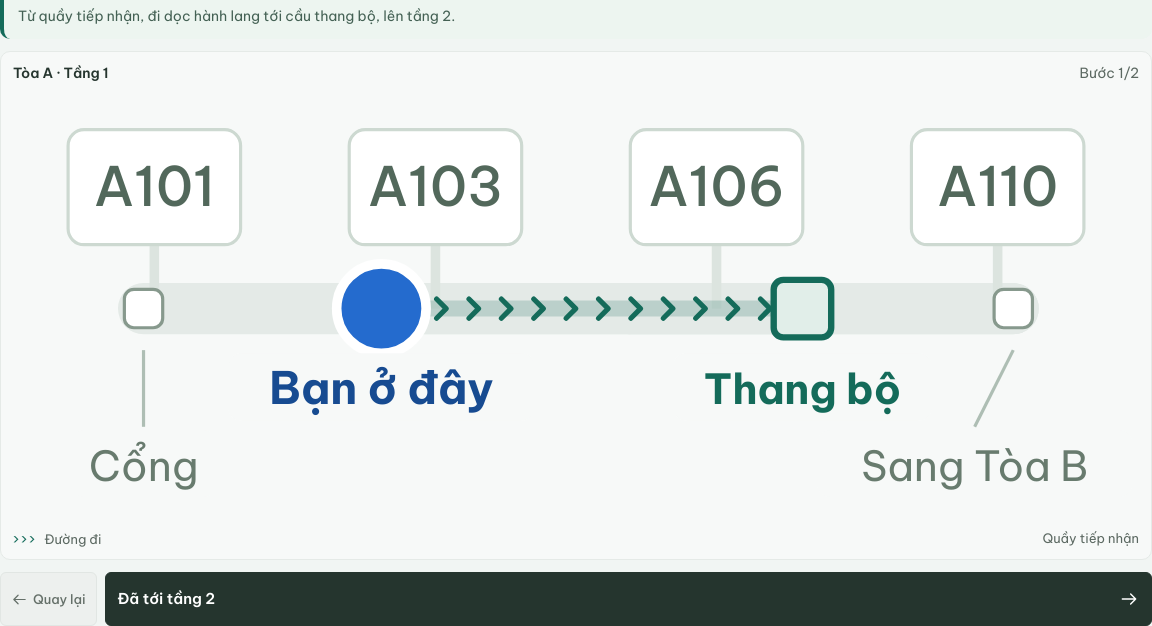
Test: current destination guidance › shows nearby rooms without turning the lift landing or corridor into confirmation steps
The image size is (1152, 626).
(page scrolled)
Expected: the picture with class "guided-floor" shows "A101", [94,152,215,220]
Expected: the picture with class "guided-floor" shows "A103", [368,152,503,220]
What coordinates should you click on to do the following:
click the button "Đã tới tầng 2"
I would click on:
 (166, 599)
Its box is [105,572,1151,625].
(page scrolled)
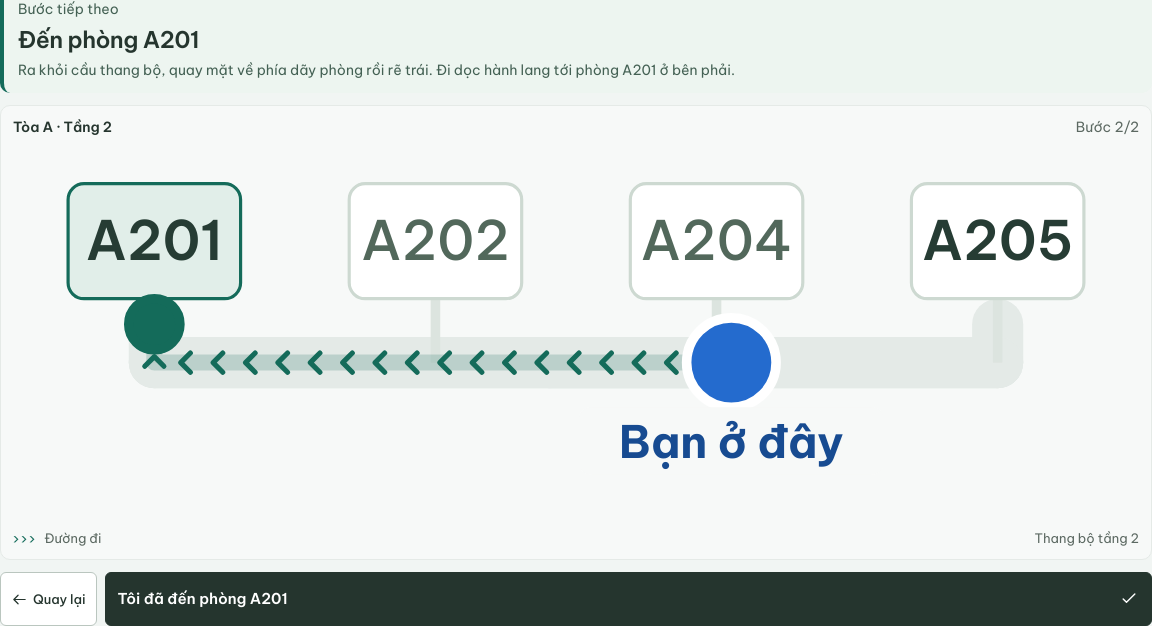
Now the button "Tôi đã đến phòng A201" is shown
Now the text with class "current-location" reads "Thang bộ tầng 2", box [1035,530,1139,546]
What coordinates should you click on to do the following:
click the button "Tôi đã đến phòng A201"
I would click on:
 (203, 599)
Its box is [105,572,1151,625].
(page scrolled)
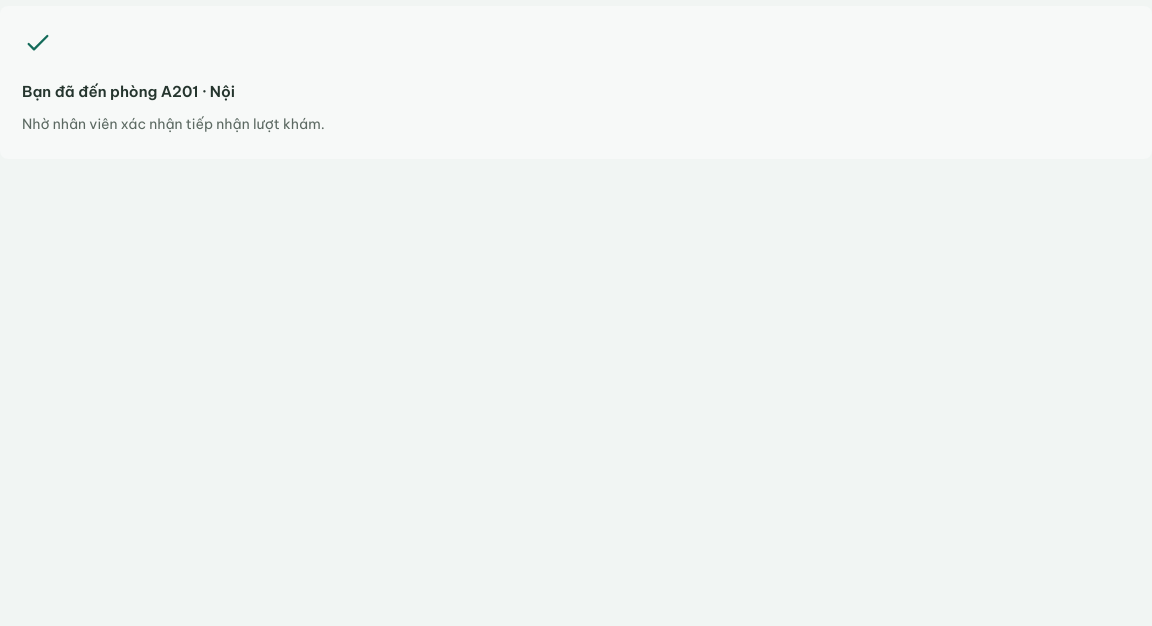
Now the element with class "arrival-note" is shown, box [0,6,1151,159]
Now the button with class "navigation-back" is gone
Now the button with class "navigation-advance" is gone
